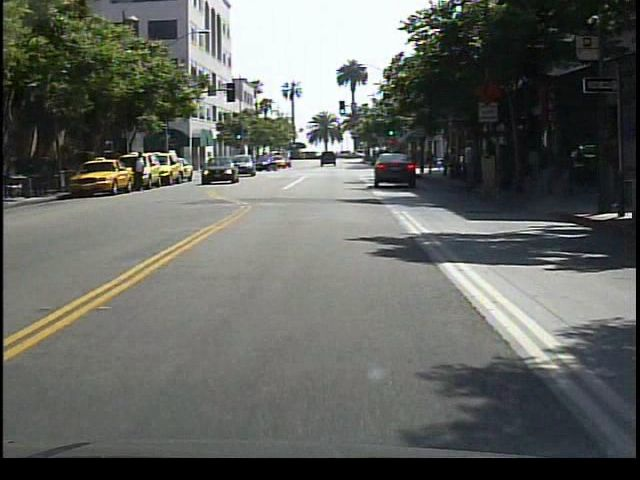person: (460, 135, 482, 196), (133, 148, 150, 195)
